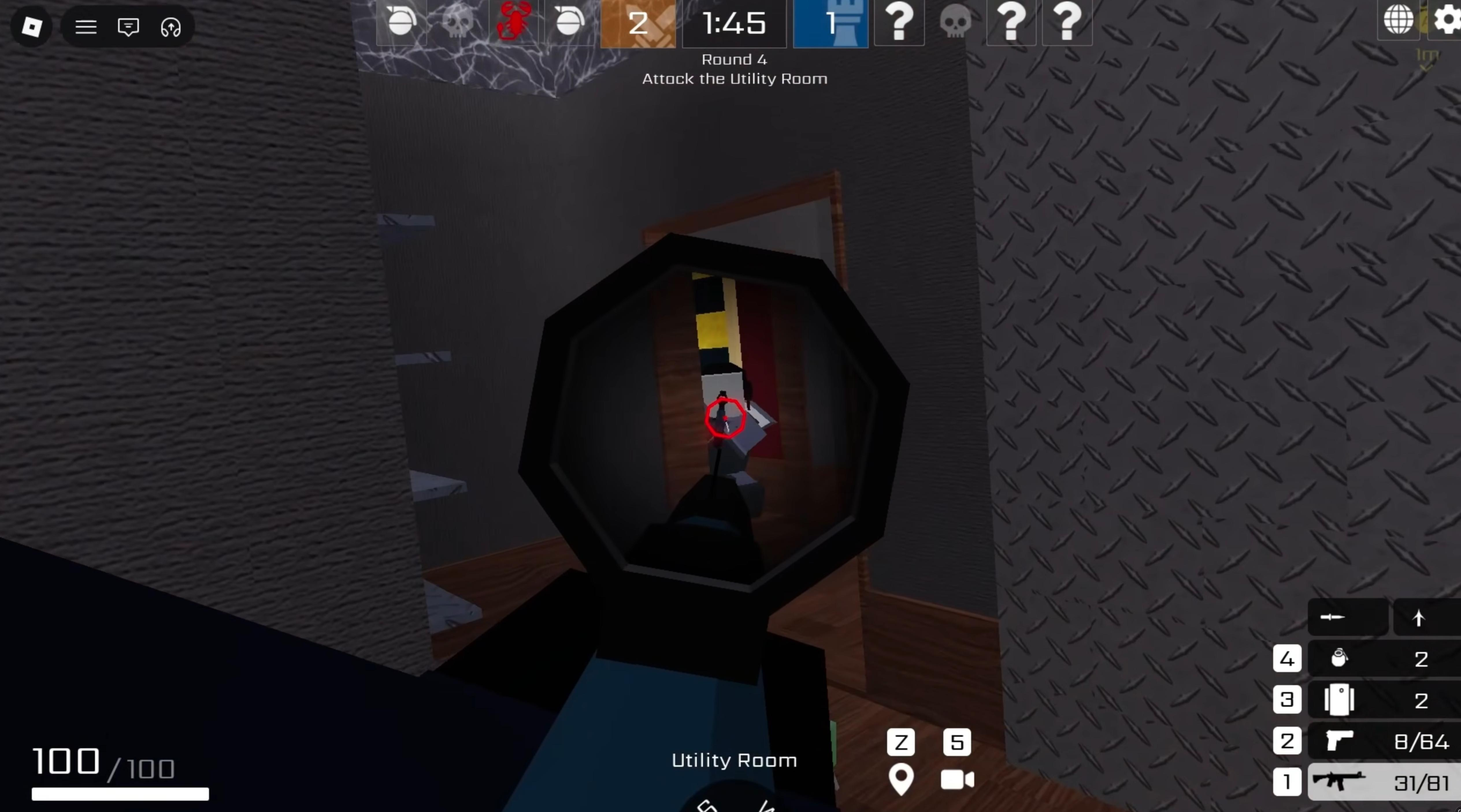enemy: (683, 352, 788, 530)
